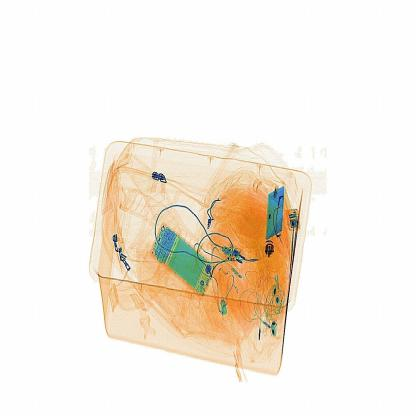wrench: (257, 233, 285, 268)
